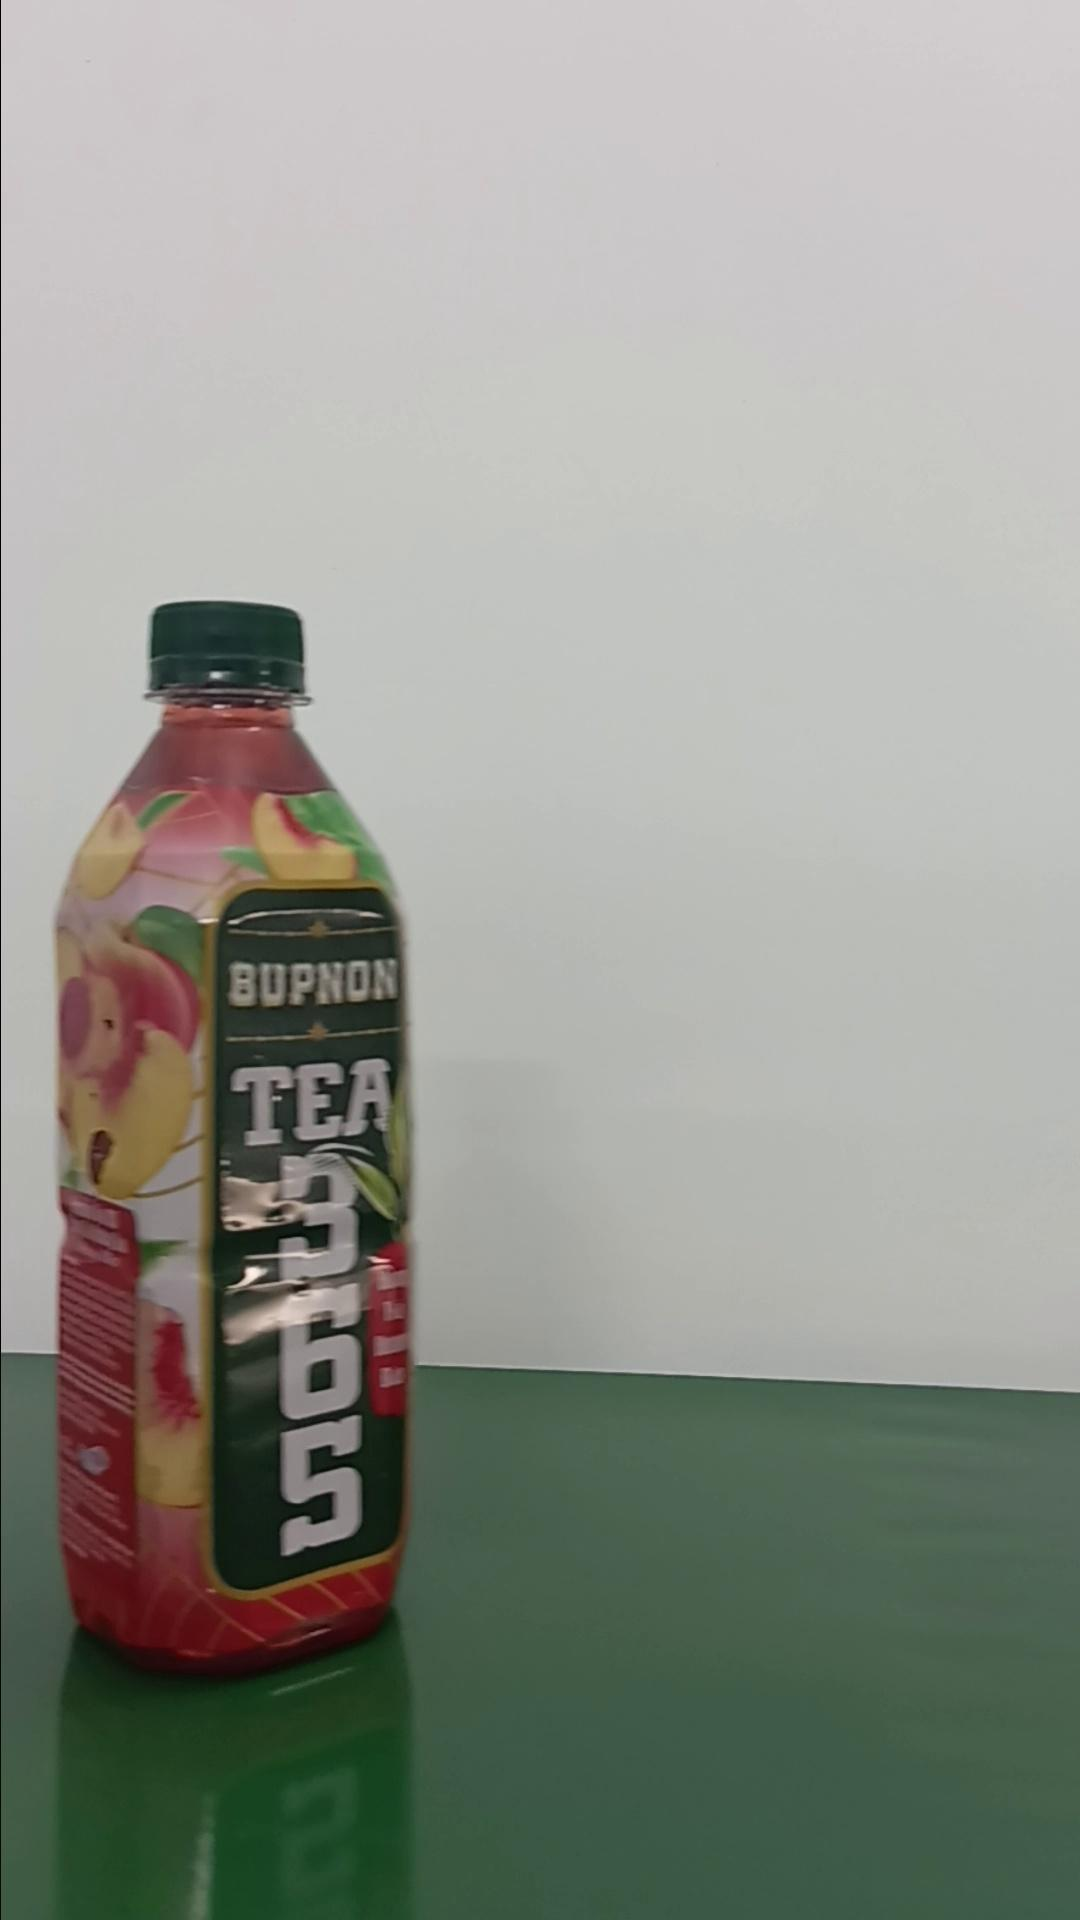loi rach va lap chai: (46, 587, 422, 1688)
